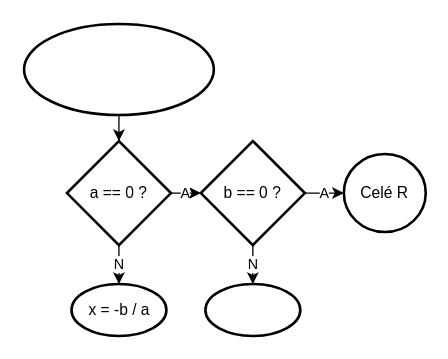
This 448x359 diagram has some shape labels left out. Here are the shapes that lost their labels. From the top down, the centre of each, then its label:
(118,69): Lineární rovnice ax+b==0 Vstup: a,b
(252,309): Nemá řešení
